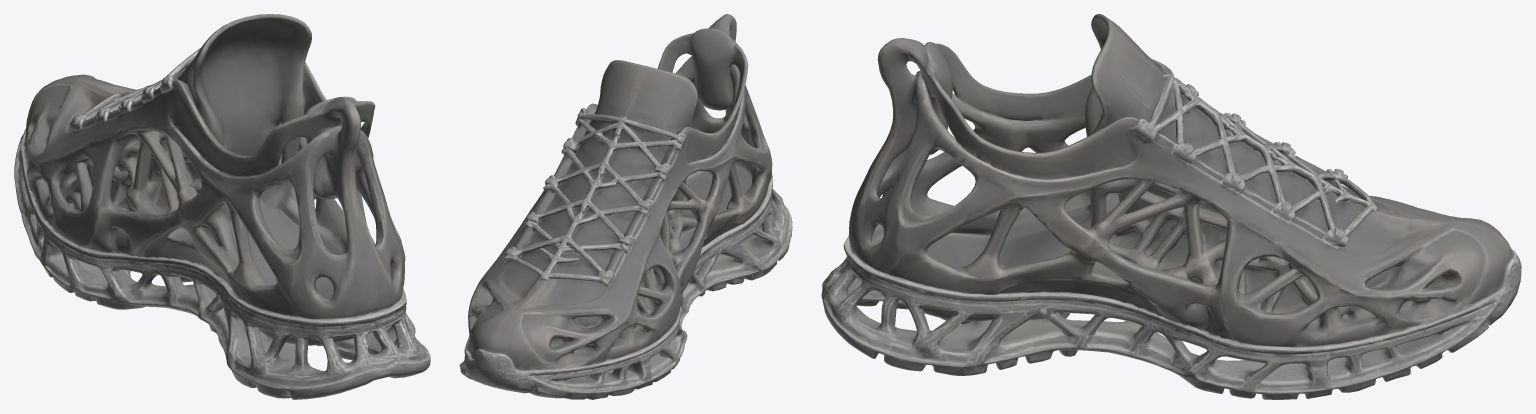
The picture shows the model from 3 angles, left to right: view 1: azimuth 30°, elevation 25°; view 2: azimuth 150°, elevation 25°; view 3: azimuth 270°, elevation 25°; orthographic projection. The views are drawn at different scales.
Visible parts, largest first — view 1: tripo_node_4ebd4648-b223-4e57-9855-6f68003661bb; view 2: tripo_node_4ebd4648-b223-4e57-9855-6f68003661bb; view 3: tripo_node_4ebd4648-b223-4e57-9855-6f68003661bb.
Part boxes in pixels (x1,y1,x2,y2): tripo_node_4ebd4648-b223-4e57-9855-6f68003661bb: (14, 14, 430, 399); tripo_node_4ebd4648-b223-4e57-9855-6f68003661bb: (459, 14, 792, 399); tripo_node_4ebd4648-b223-4e57-9855-6f68003661bb: (821, 14, 1521, 399).
Size of the model in its own units: 0.3753 by 0.5064 by 1.
Materials: 1 (1 with a texture image).
